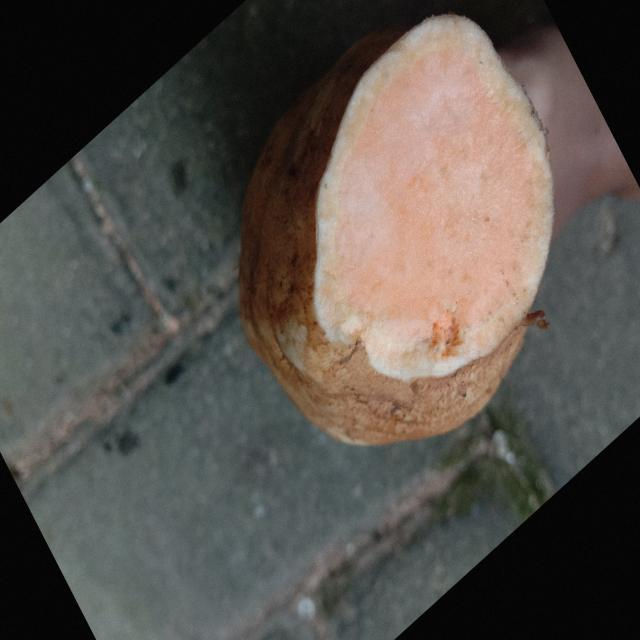Healthy Sweet Potato: (314, 15, 554, 382)
